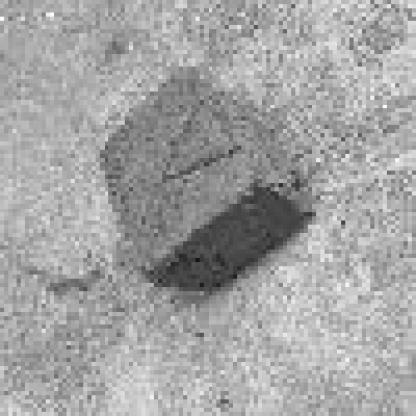brick: (98, 67, 314, 295)
